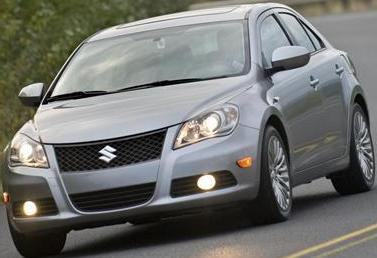front_view: (8, 110, 269, 218)
headlight: (173, 104, 241, 149)
side_glass: (251, 8, 326, 67)
